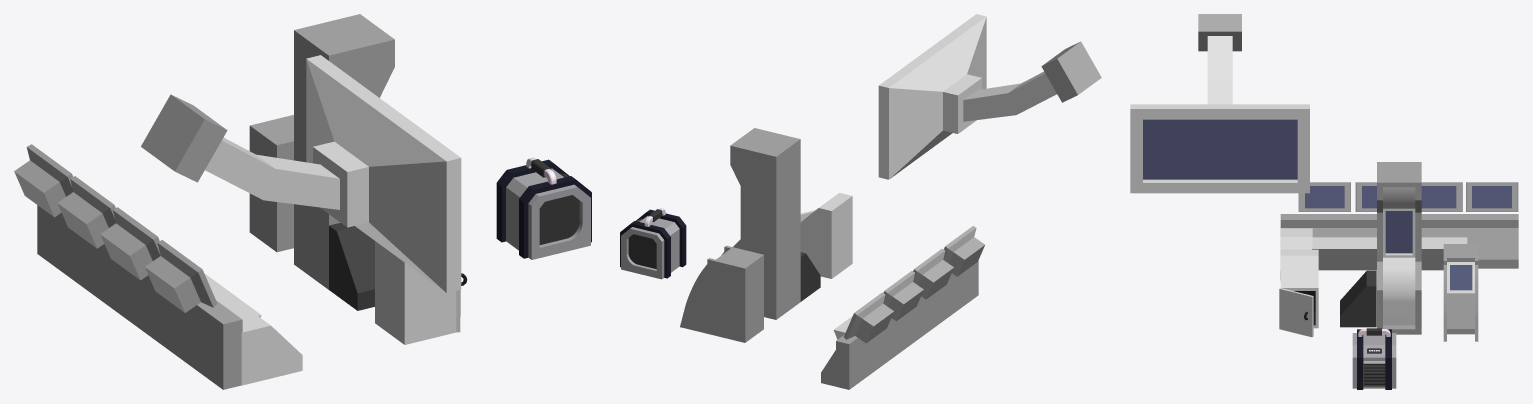
The model's file is props.fbx.
The picture shows the model from 3 angles, left to right: view 1: azimuth 30°, elevation 25°; view 2: azimuth 150°, elevation 25°; view 3: azimuth 270°, elevation 25°; orthographic projection. The views are drawn at different scales.
Parts seen in each view (by area): view 1: Television, Computers, LargeScreen, Box2, WallBox, SmallScreen, Shape; view 2: Television, Computers, LargeScreen, SmallScreen, Box2, WallBox, Shape; view 3: Television, Computers, LargeScreen, SmallScreen, WallBox, Box2, Shape.
Part boxes in pixels (box(x1,y1,x2,y2)): Television: box(141, 55, 461, 292); Computers: box(14, 144, 302, 389); LargeScreen: box(294, 14, 394, 289); Box2: box(496, 157, 591, 259); WallBox: box(375, 241, 467, 344); SmallScreen: box(249, 115, 293, 252); Shape: box(329, 223, 374, 310); Television: box(878, 14, 1101, 179); Computers: box(821, 226, 984, 389); LargeScreen: box(730, 128, 800, 319); SmallScreen: box(680, 245, 763, 342); Box2: box(620, 208, 686, 279); WallBox: box(800, 193, 852, 278); Shape: box(800, 252, 820, 301); Television: box(1130, 14, 1309, 193); Computers: box(1280, 182, 1518, 280); LargeScreen: box(1377, 162, 1421, 334); SmallScreen: box(1443, 244, 1478, 341); WallBox: box(1279, 249, 1318, 337); Box2: box(1352, 328, 1396, 389); Shape: box(1340, 270, 1376, 327).
Size of the model in its own units: 1266 by 757 by 1230.
